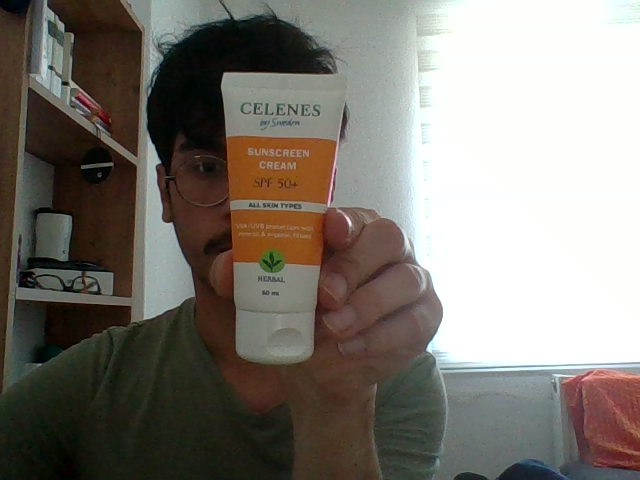CelenesSunCream: (220, 70, 348, 361)
